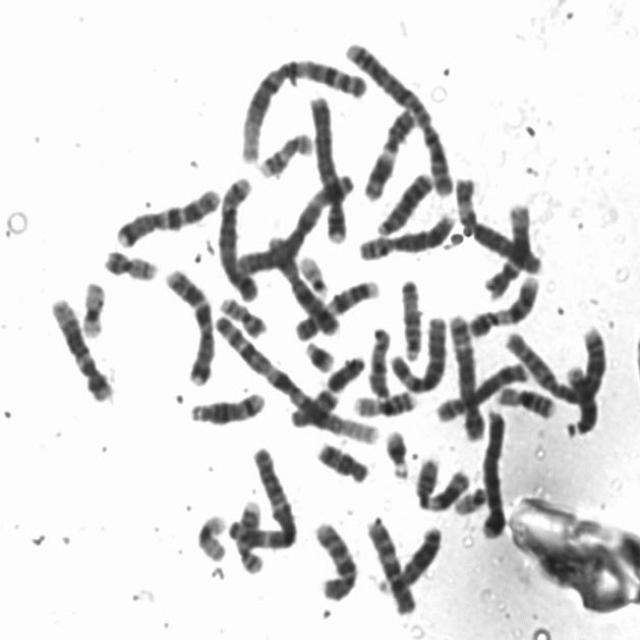A1: (206, 306, 382, 447), (236, 52, 369, 166)
A2: (340, 35, 458, 200), (498, 317, 612, 406)
A3: (232, 167, 356, 278), (222, 440, 299, 553)
B4: (303, 89, 349, 246), (476, 404, 509, 539)
B5: (212, 169, 260, 303), (445, 308, 486, 442)
C10: (361, 512, 418, 617), (310, 515, 362, 604)
C11: (359, 101, 419, 203), (410, 452, 472, 513)
C12: (46, 290, 117, 404), (480, 198, 533, 300)
C6: (449, 171, 544, 276), (384, 308, 448, 394)
C7: (111, 182, 223, 248), (160, 261, 217, 387)
C8: (432, 356, 532, 424), (354, 207, 460, 262)
C9: (290, 274, 381, 342), (464, 269, 541, 338)
D13: (374, 520, 446, 597), (374, 166, 436, 238)
D14: (186, 386, 269, 426), (560, 361, 600, 438)
D15: (396, 273, 424, 362), (364, 322, 394, 401)
E16: (492, 380, 560, 420), (350, 384, 420, 418)
E17: (254, 126, 316, 180), (231, 495, 267, 575)
E18: (312, 436, 372, 484), (283, 381, 341, 430)
F19: (76, 274, 109, 340), (192, 507, 230, 563)
F20: (216, 292, 270, 339), (100, 243, 160, 282)
G21: (381, 423, 412, 481), (300, 335, 338, 374)
G22: (295, 250, 332, 297), (451, 482, 489, 518)
X: (263, 230, 342, 338)
Y: (322, 349, 368, 394)
